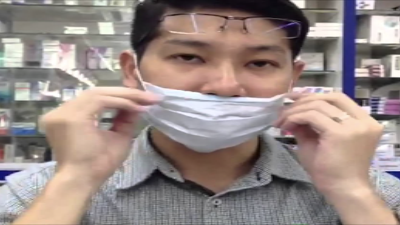mask_weared_incorrect: (138, 37, 297, 154)
